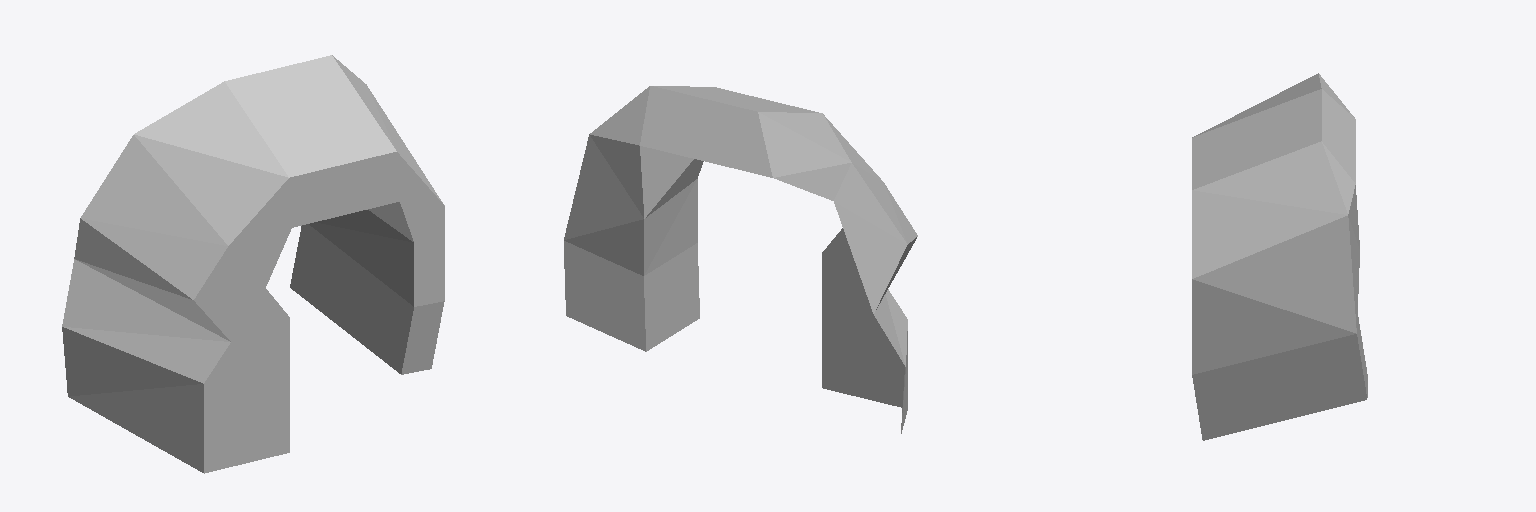
File: quad2.obj
The picture shows the model from 3 angles: view 1: azimuth 30°, elevation 25°; view 2: azimuth 150°, elevation 25°; view 3: azimuth 270°, elevation 25°; orthographic projection.
Parts seen in each view (by area): view 1: Plane; view 2: Plane; view 3: Plane.
Boxes of the visible parts, x1,y1,x2,y2 form: Plane: [62, 55, 444, 473]; Plane: [564, 86, 917, 433]; Plane: [1192, 73, 1367, 440].
Size of the model in its own units: 7.73 by 7.21 by 3.55.